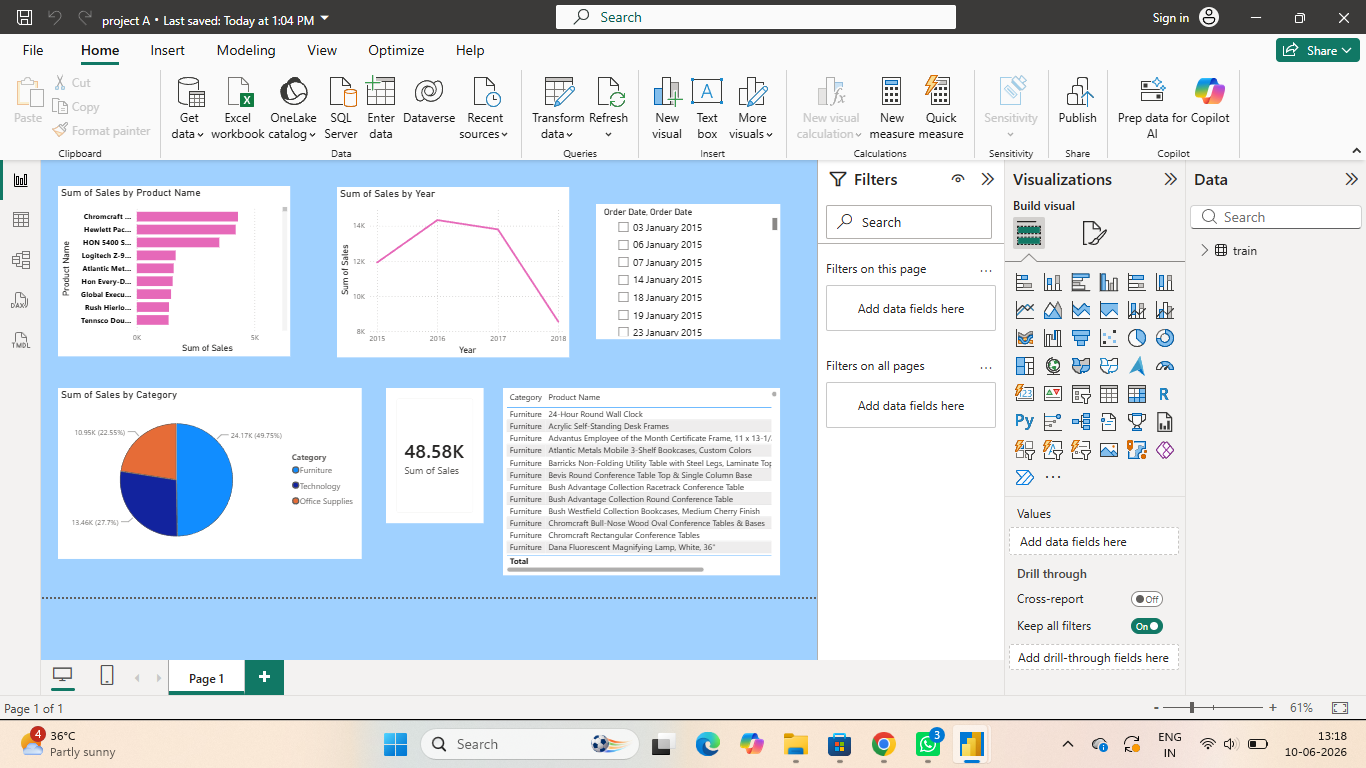

The dashboard page shown, as its layout file describes it:
{"tool":"powerbi","page":{"name":"Page 1","canvas":[1280,720],"ordinal":0},"visuals":[{"type":"clusteredBarChart","fields":{"Category":["train.Product Name"],"Y":["Sum(train.Sales)"]},"box":[28.6,43.7,383,280.5],"z":0},{"type":"pieChart","fields":{"Category":["train.Category"],"Y":["Sum(train.Sales)"]},"box":[28.6,376.3,500.6,282.2],"z":1},{"type":"lineChart","fields":{"Category":["train.Order Date.Variation.Date Hierarchy.Year","train.Order Date.Variation.Date Hierarchy.Quarter","train.Order Date.Variation.Date Hierarchy.Month","train.Order Date.Variation.Date Hierarchy.Day"],"Y":["Sum(train.Sales)"]},"box":[488.5,44,383,281],"z":2},{"type":"cardVisual","fields":{"Data":["Sum(train.Sales)"]},"box":[569.4,376.3,161.3,223.4],"z":3},{"type":"slicer","fields":{"Values":["train.Order Date","train.Order Date"]},"box":[915.5,72.2,304,223.4],"z":4},{"type":"tableEx","fields":{"Values":["train.Category","train.Product Name","Sum(train.Sales)"]},"box":[762.6,376.3,456.9,309.1],"z":5}]}

Visuals, with their boxes on the page's 1280x720 design canvas (x1, y1, x2, y2). These are canvas units, not pixel positions in the 1366x768 screenshot, which may show the page scaled, cropped or inside an application window:
clusteredBarChart - train.Product Name x Sum(train.Sales): box(29, 44, 412, 324)
pieChart - train.Category x Sum(train.Sales): box(29, 376, 529, 658)
lineChart - train.Order Date.Variation.Date Hierarchy.Year x train.Order Date.Variation.Date Hierarchy.Quarter: box(488, 44, 872, 325)
cardVisual - Sum(train.Sales): box(569, 376, 731, 600)
slicer - train.Order Date x train.Order Date: box(916, 72, 1220, 296)
tableEx - train.Category x train.Product Name: box(763, 376, 1220, 685)
